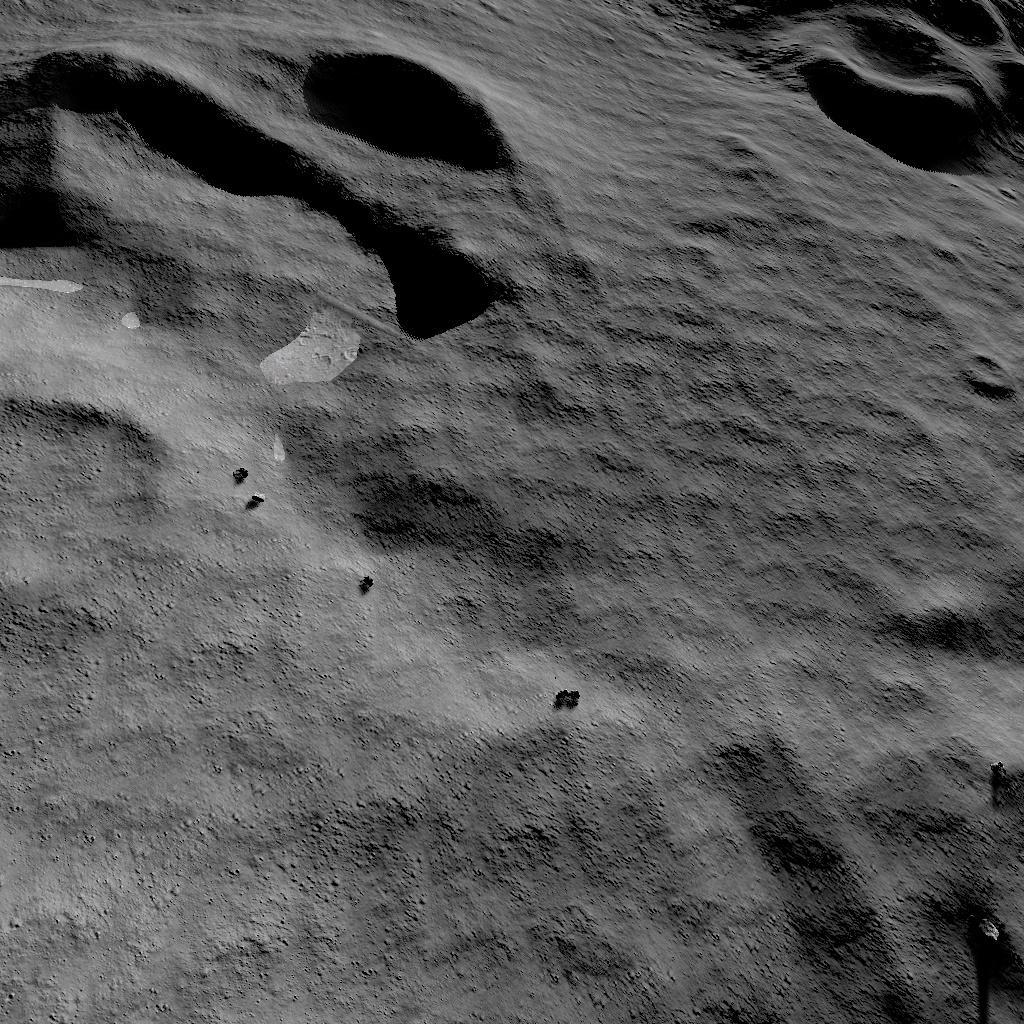Crater: (0, 36, 522, 356), (617, 0, 1024, 182), (0, 384, 168, 626), (952, 352, 1020, 400)
Plan surface: (7, 668, 524, 1024), (591, 287, 909, 806), (547, 820, 893, 1024)
